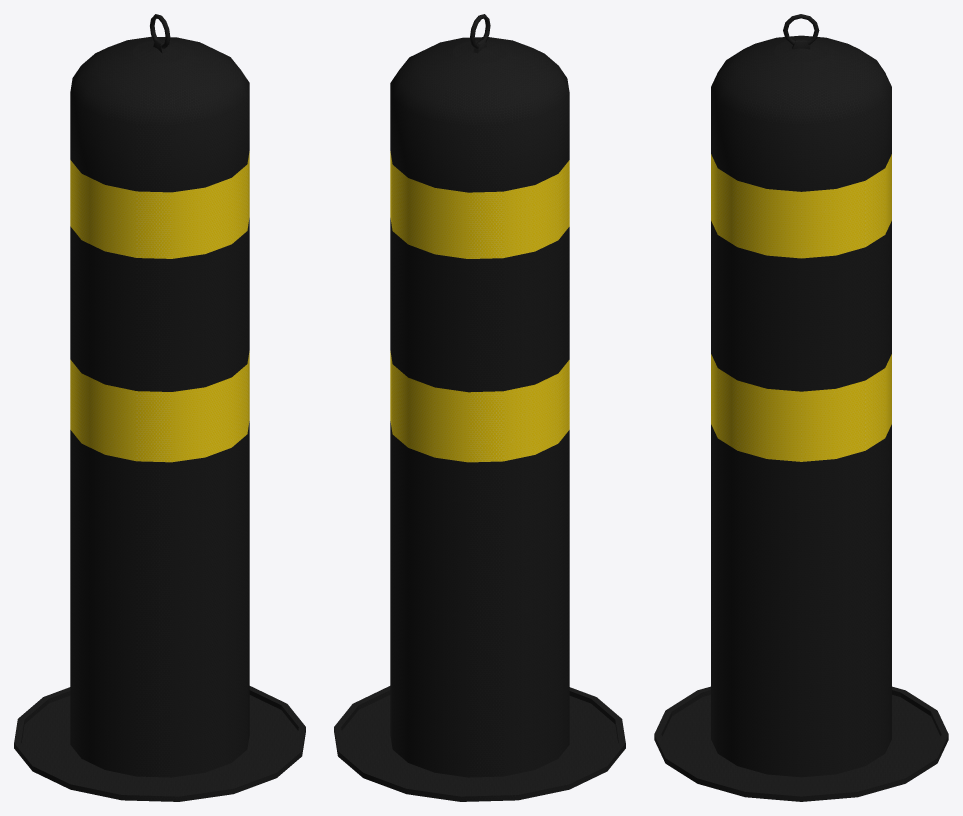
The model's file is sm_tingchezhuang.fbx.
3 views of the same model, side by side, from view 1: azimuth 30°, elevation 25°; view 2: azimuth 150°, elevation 25°; view 3: azimuth 270°, elevation 25° (orthographic).
Visible parts, largest first — view 1: sm_tingchezhuang; view 2: sm_tingchezhuang; view 3: sm_tingchezhuang.
Boxes of the visible parts, x1,y1,x2,y2 form: sm_tingchezhuang: (14,14,305,801); sm_tingchezhuang: (334,14,625,801); sm_tingchezhuang: (654,14,948,801).
Size of the model in its own units: 0.1854 by 0.504 by 0.1854.
